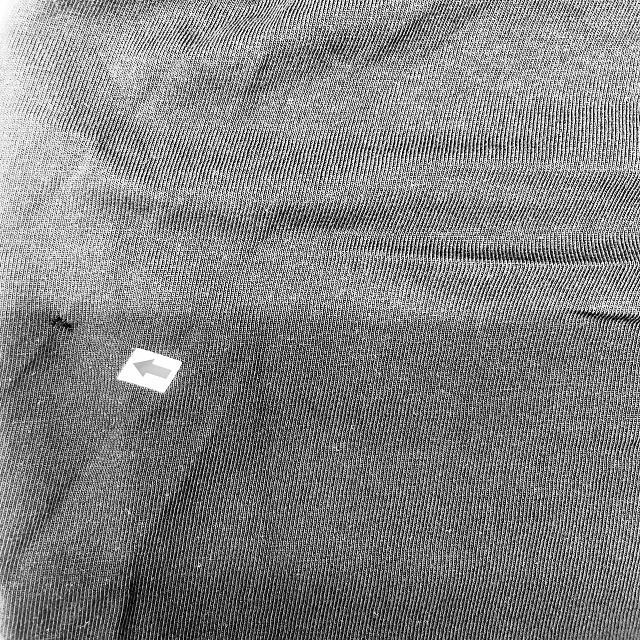Hole: (47, 314, 77, 339)
